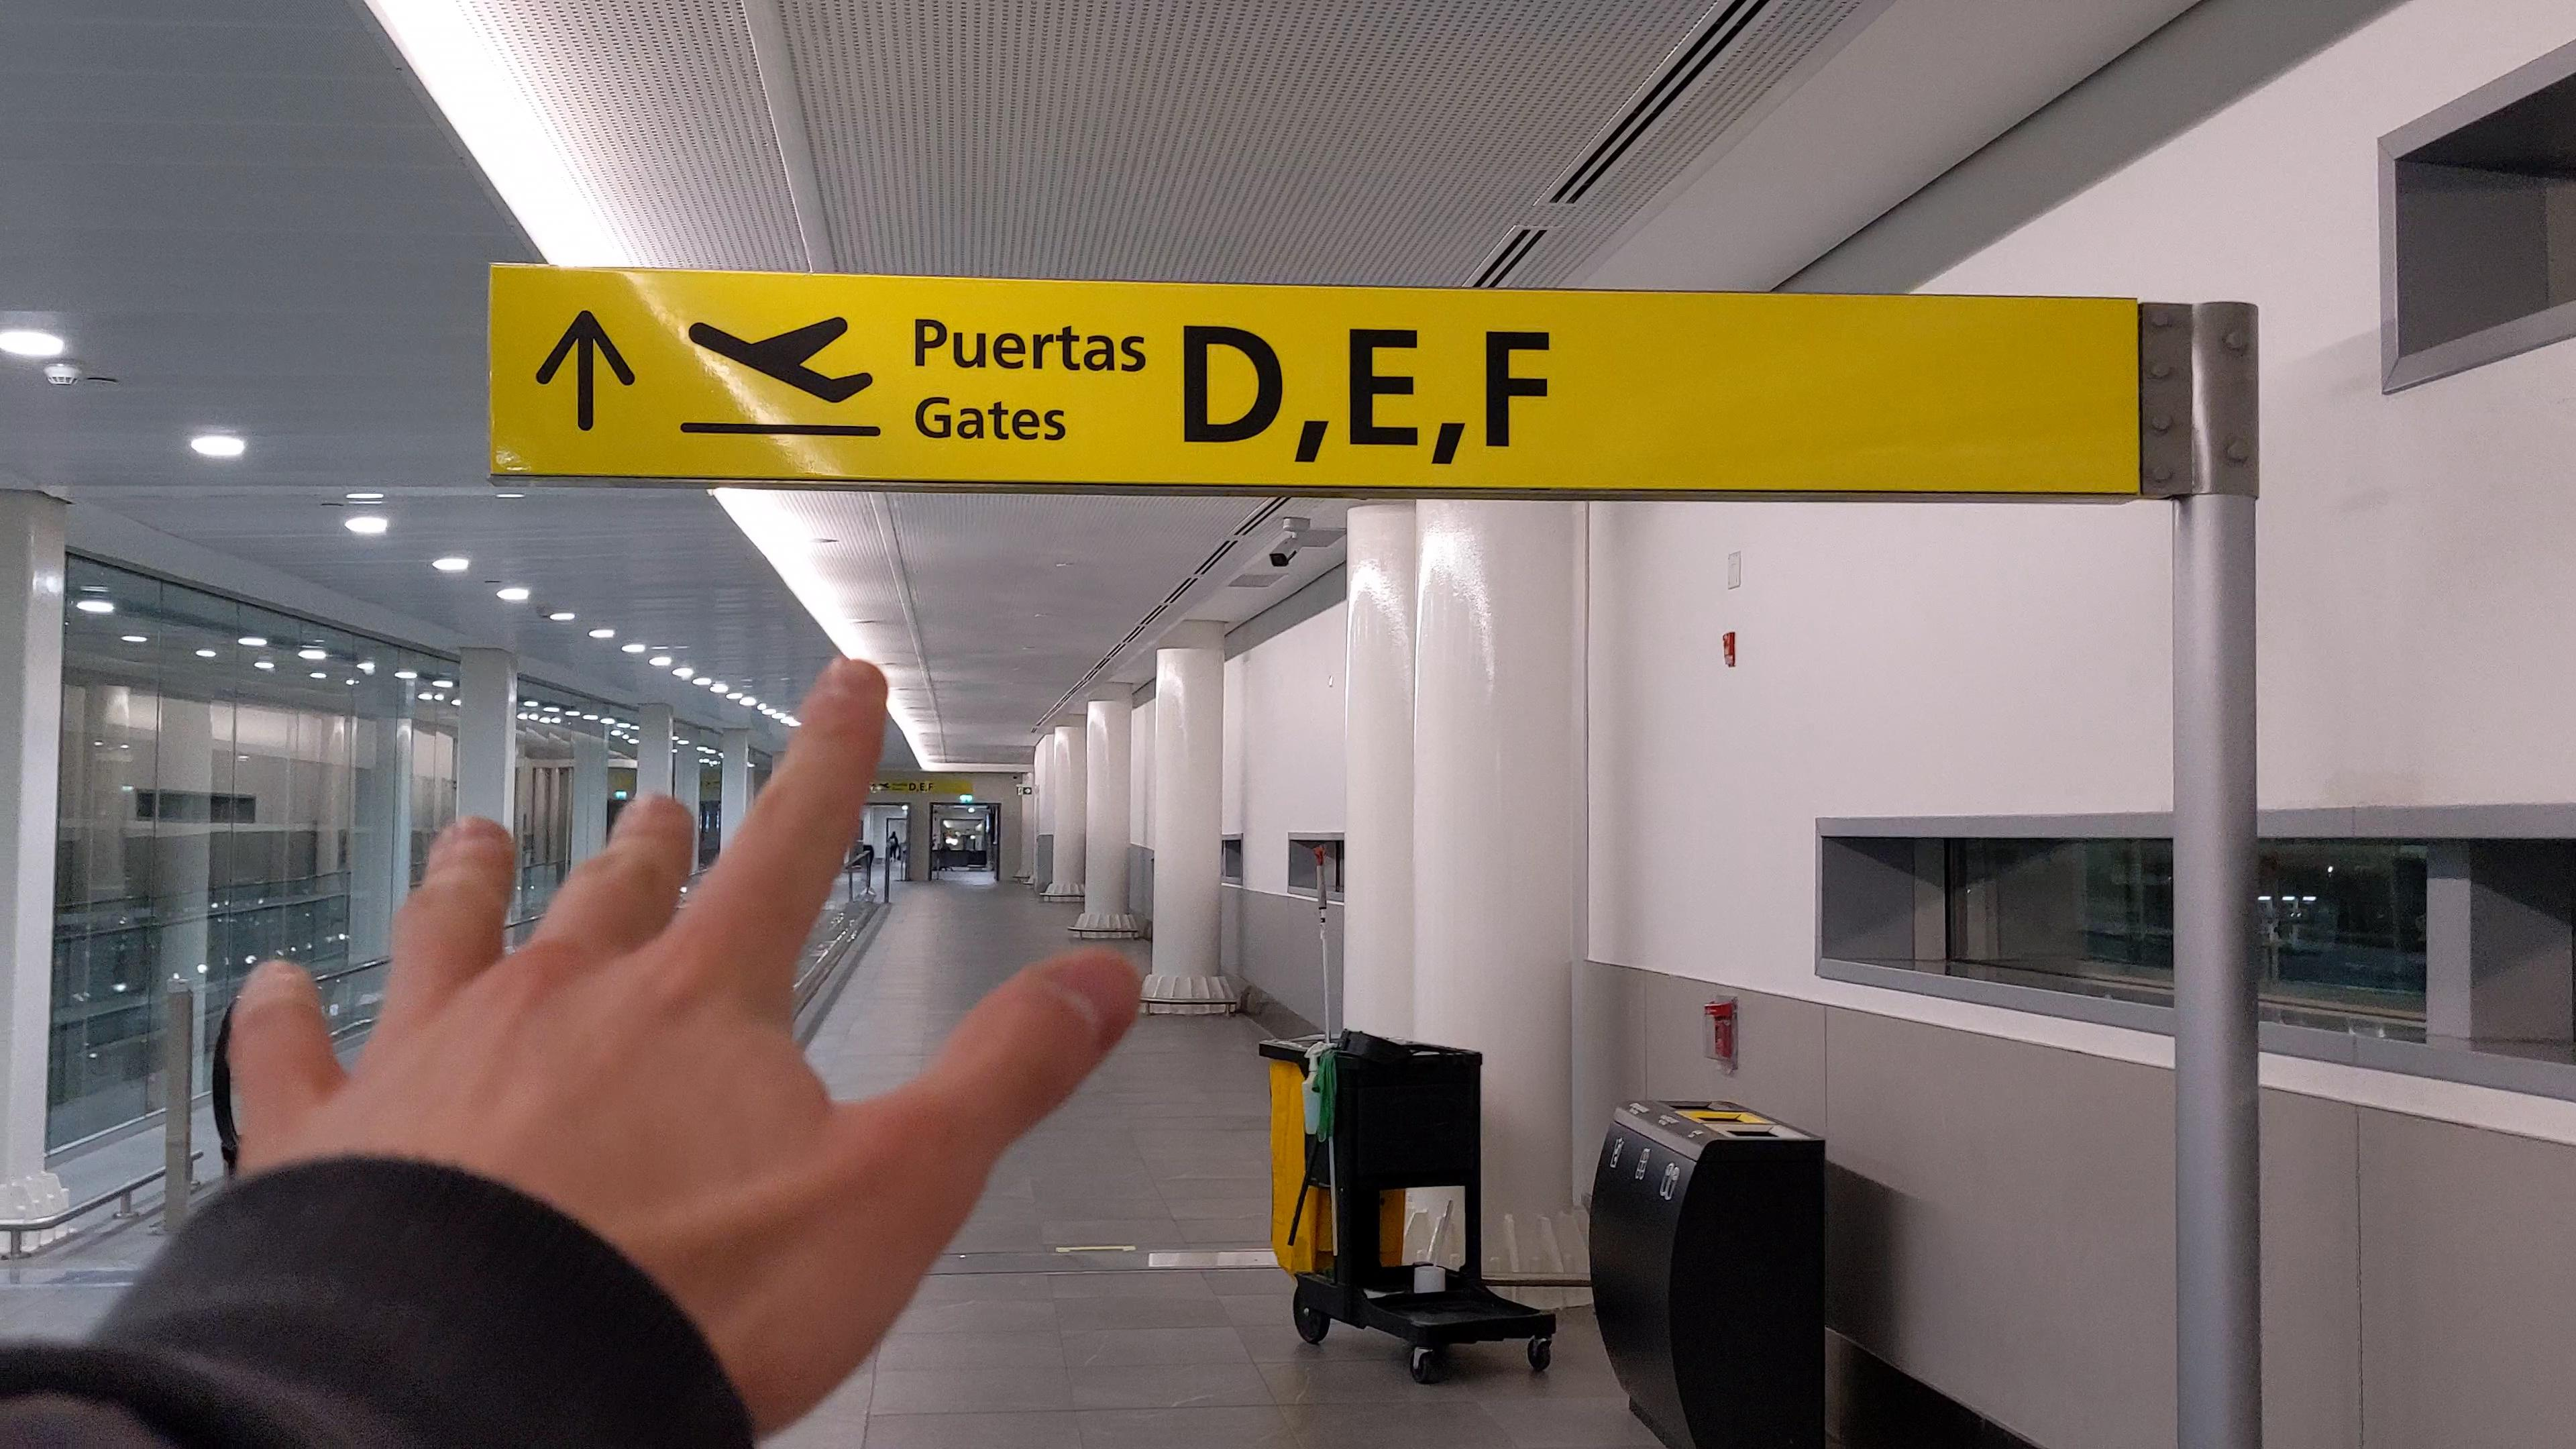airplane symbol: (685, 318, 892, 409)
thin up arrow: (524, 306, 639, 441)
